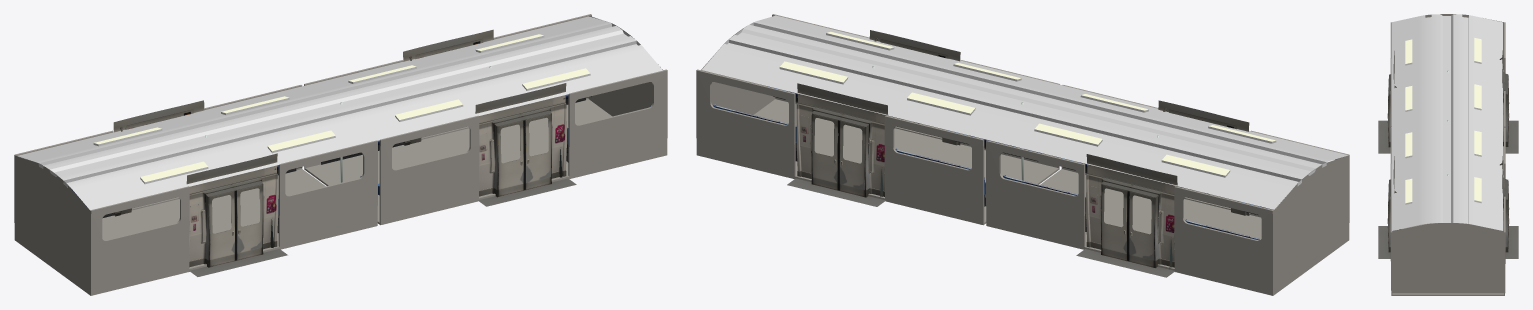
Rendered from mrt_without_panel_v.glb.
3 renders of one model, left to right at view 1: azimuth 30°, elevation 25°; view 2: azimuth 150°, elevation 25°; view 3: azimuth 270°, elevation 25°, orthographic. The views are drawn at different scales.
Parts seen in each view (by area): view 1: Cube.002, Cube.001, Cube, tripo_node_06542f92.001, tripo_node_06542f92.002, tripo_node_06542f92.006, tripo_node_06542f92.004, tripo_node_06542f92.005, tripo_node_06542f92.003, tripo_node_06542f92.010, tripo_node_06542f92.007; view 2: Cube.002, Cube.001, Cube, tripo_node_06542f92.010, tripo_node_06542f92.007, tripo_node_06542f92.009, tripo_node_06542f92.012, tripo_node_06542f92.011, tripo_node_06542f92.008, tripo_node_06542f92.002, tripo_node_06542f92.001; view 3: Cube.002, Cube.001, tripo_node_06542f92.010, tripo_node_06542f92.007, tripo_node_06542f92.001, tripo_node_06542f92.002, Cube.
Boxes of the visible parts, box(x1,y1,x2,y2) form: Cube.002: box(15, 16, 663, 293); Cube.001: box(304, 14, 667, 225); Cube: box(14, 85, 377, 295); tripo_node_06542f92.001: box(186, 153, 287, 276); tripo_node_06542f92.002: box(475, 83, 576, 206); tripo_node_06542f92.006: box(235, 184, 263, 260); tripo_node_06542f92.004: box(524, 113, 551, 190); tripo_node_06542f92.005: box(209, 190, 236, 267); tripo_node_06542f92.003: box(497, 120, 524, 196); tripo_node_06542f92.010: box(113, 100, 204, 216); tripo_node_06542f92.007: box(403, 29, 493, 145); Cube.002: box(701, 15, 1348, 293); Cube.001: box(696, 14, 1059, 225); Cube: box(986, 85, 1349, 295); tripo_node_06542f92.010: box(1076, 154, 1179, 277); tripo_node_06542f92.007: box(787, 83, 889, 206); tripo_node_06542f92.009: box(838, 120, 865, 197); tripo_node_06542f92.012: box(1128, 191, 1155, 267); tripo_node_06542f92.011: box(1101, 184, 1128, 261); tripo_node_06542f92.008: box(811, 114, 838, 190); tripo_node_06542f92.002: box(869, 30, 960, 145); tripo_node_06542f92.001: box(1158, 100, 1249, 215); Cube.002: box(1391, 14, 1503, 293); Cube.001: box(1390, 127, 1505, 295); tripo_node_06542f92.010: box(1499, 50, 1518, 153); tripo_node_06542f92.007: box(1500, 156, 1518, 258); tripo_node_06542f92.001: box(1378, 51, 1396, 153); tripo_node_06542f92.002: box(1378, 156, 1396, 258); Cube: box(1390, 22, 1505, 177).
Size of the model in its own units: 6.37 by 1.02 by 1.8.
Materials: 6 (2 with a texture image).
